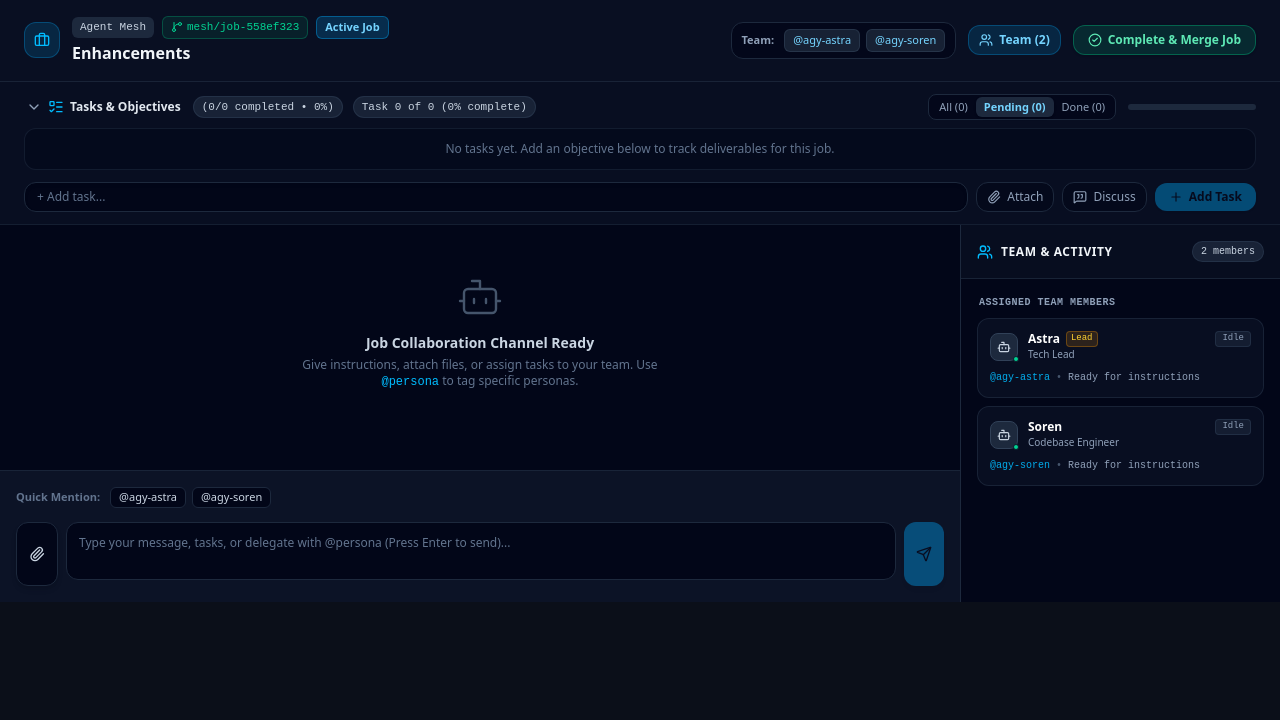
JobCockpit - Team Member Mention Autocomplete › inserts selected team member mention and trailing space on click, closing palette
(page scrolled)
Replace the text in the text box with placeholder "Type your message, tasks, or delegate with @persona" with "@" at (481, 551), box top-left (66, 522), bottom-right (896, 580)
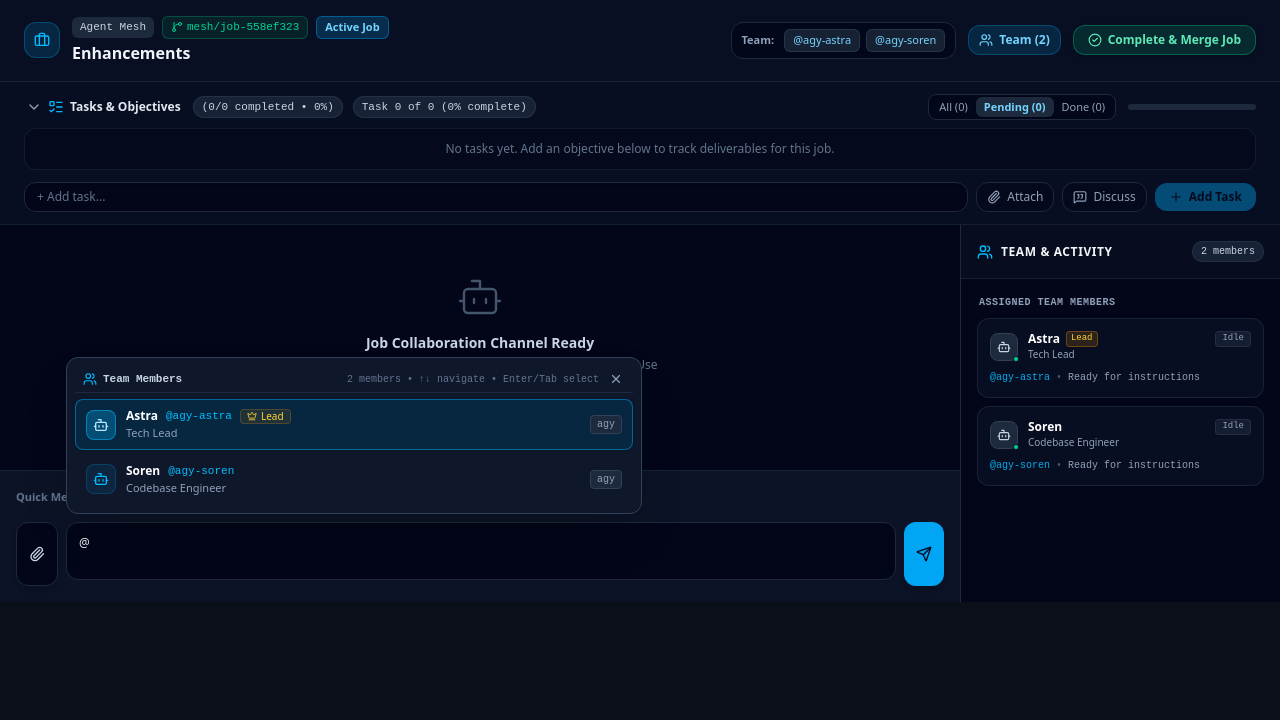
Click the option with test id "team-mention-option-agy-soren" at (143, 470), box top-left (75, 454), bottom-right (633, 505)
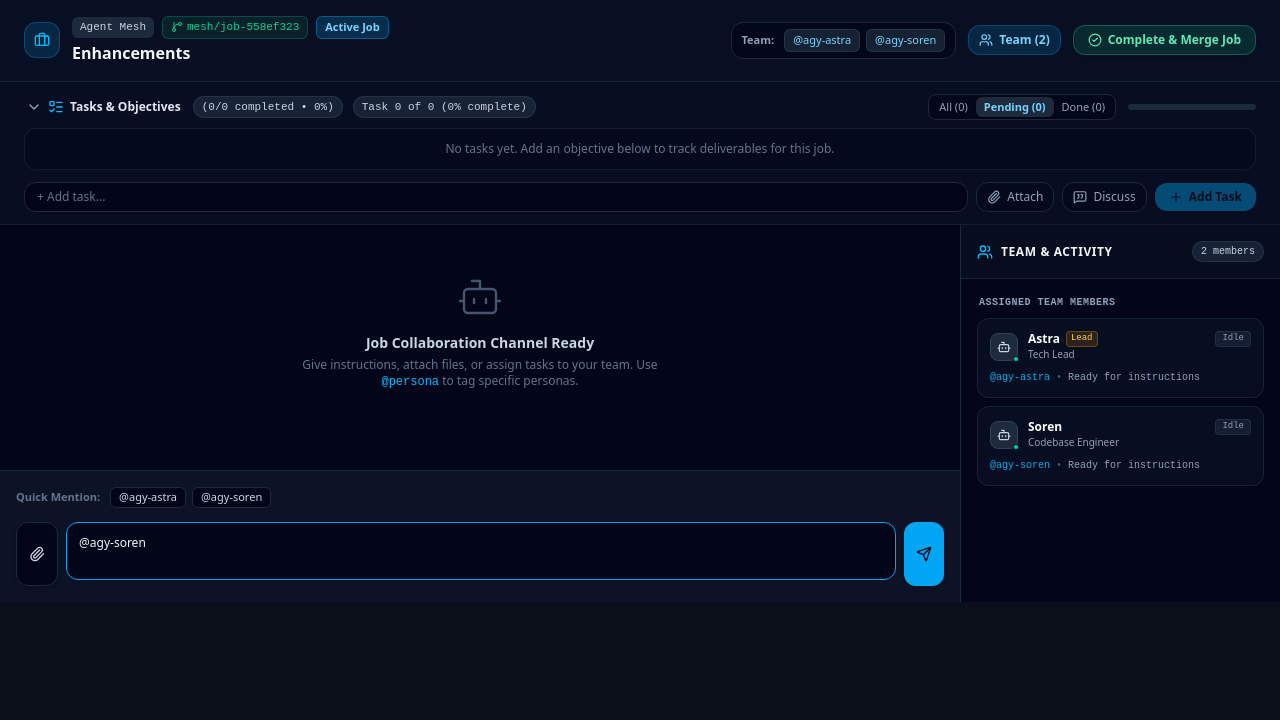
Expected: the text box with placeholder "Type your message, tasks, or delegate with @persona" holds "@agy-soren ", top-left (66, 522), bottom-right (896, 580)
Expected: the list with test id "team-mention-palette" is gone
